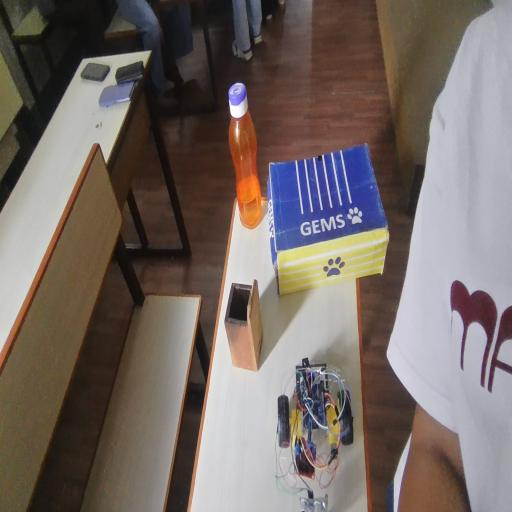Bottle: (218, 68, 282, 232)
car: (278, 369, 363, 477)
